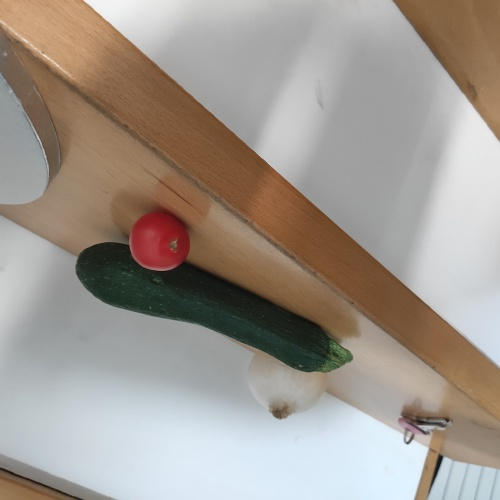cipolla: (248, 357, 329, 419)
pomodoro: (128, 214, 191, 271)
zucchine: (75, 241, 354, 373)
